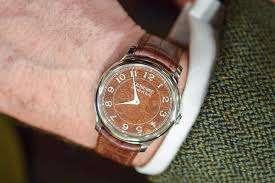clock: (99, 63, 174, 139)
